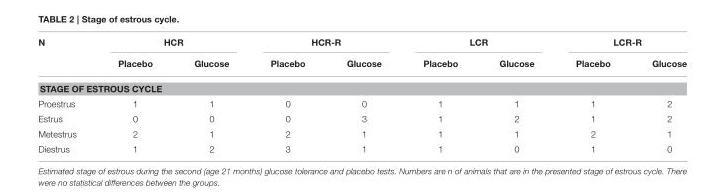table: (37, 37, 686, 153)
table column: (172, 37, 249, 153), (477, 37, 554, 153), (96, 37, 172, 153), (249, 37, 325, 153), (325, 37, 401, 153), (401, 37, 477, 153), (554, 37, 630, 153), (37, 37, 96, 153), (630, 37, 686, 153)
table column header: (37, 37, 686, 76)
table projected row header: (37, 76, 686, 96)
table row: (37, 52, 686, 76), (37, 76, 686, 96), (37, 37, 686, 52), (37, 96, 686, 111), (37, 111, 686, 126), (37, 126, 686, 141), (37, 141, 686, 153)
table spanning cell: (37, 37, 96, 76), (96, 37, 249, 52), (401, 37, 554, 52), (249, 37, 401, 52), (554, 37, 686, 52)
